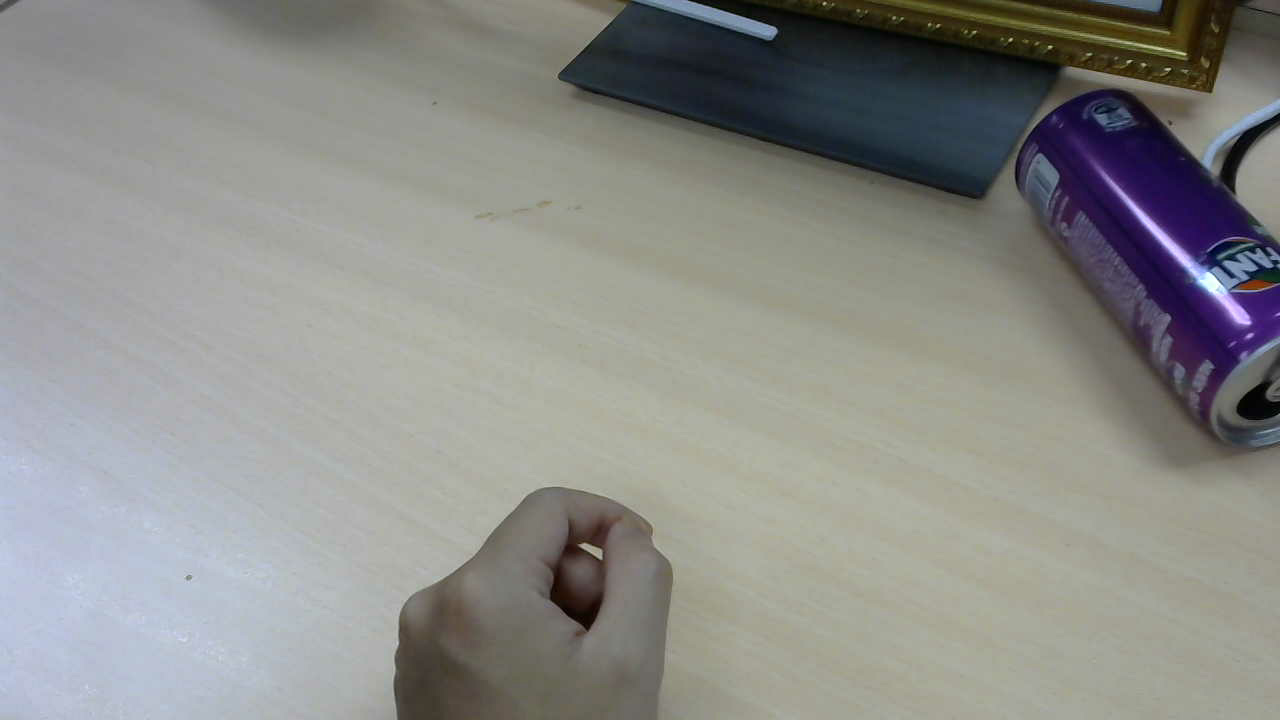Fanta: (1016, 93, 1280, 455)
